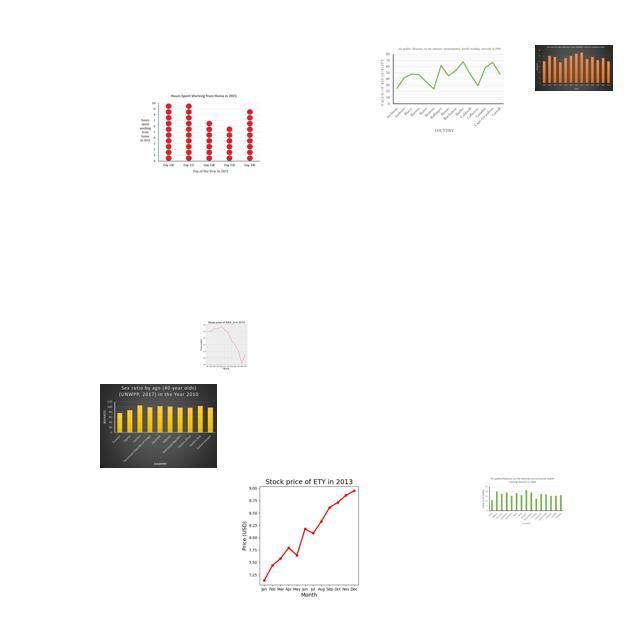Graph: (222, 471, 392, 599), (378, 44, 507, 136), (139, 92, 262, 176), (100, 384, 217, 468), (480, 476, 565, 527), (190, 318, 261, 371), (535, 45, 613, 91)
